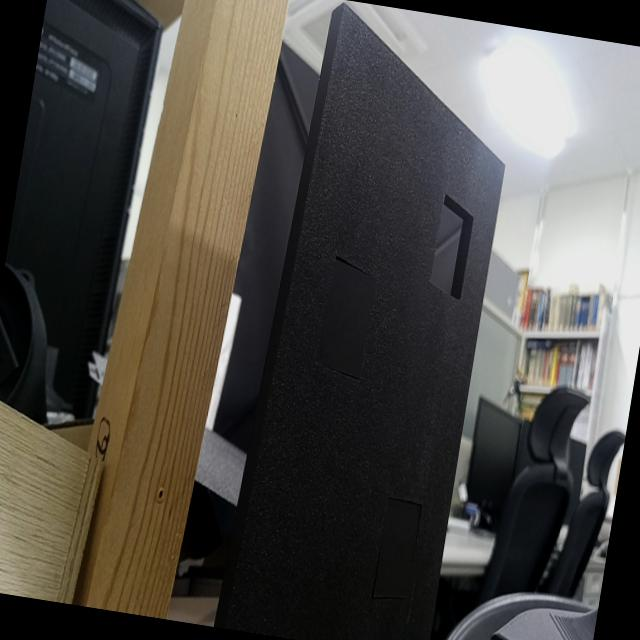Obstacle: (430, 194, 475, 300)
Wall: (227, 2, 506, 640)
